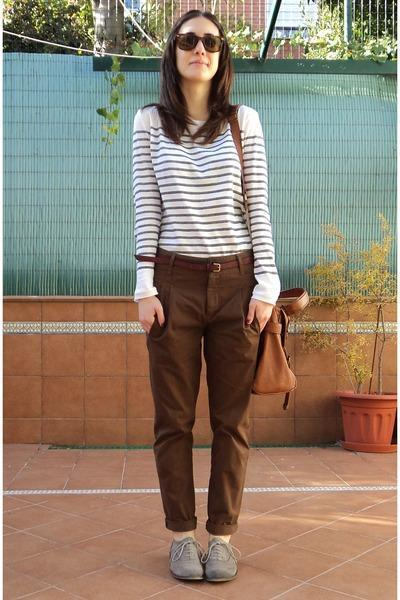bag: (257, 324, 299, 388)
pants: (146, 252, 274, 534)
shirt: (132, 108, 280, 304)
shoe: (171, 531, 240, 580)
sunglass: (197, 23, 234, 55)
